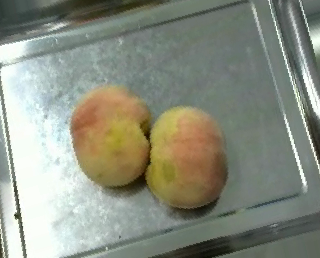Peach: (145, 104, 228, 209), (70, 84, 152, 187)
